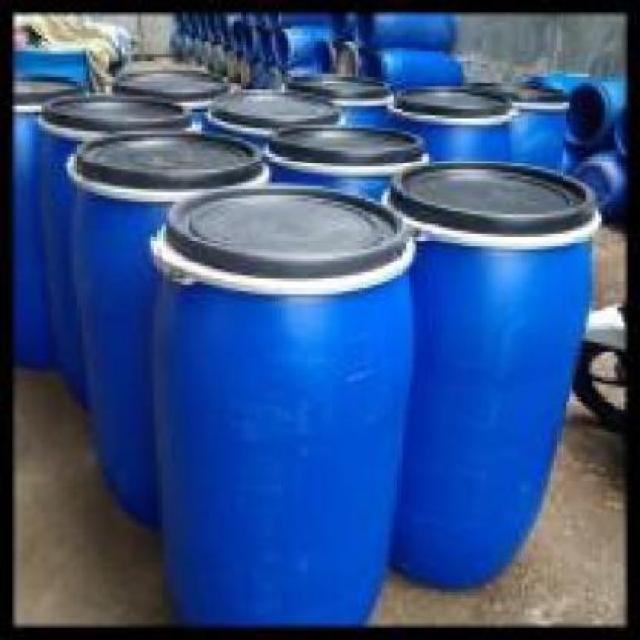garbage container: (149, 183, 398, 634), (381, 167, 600, 593)
